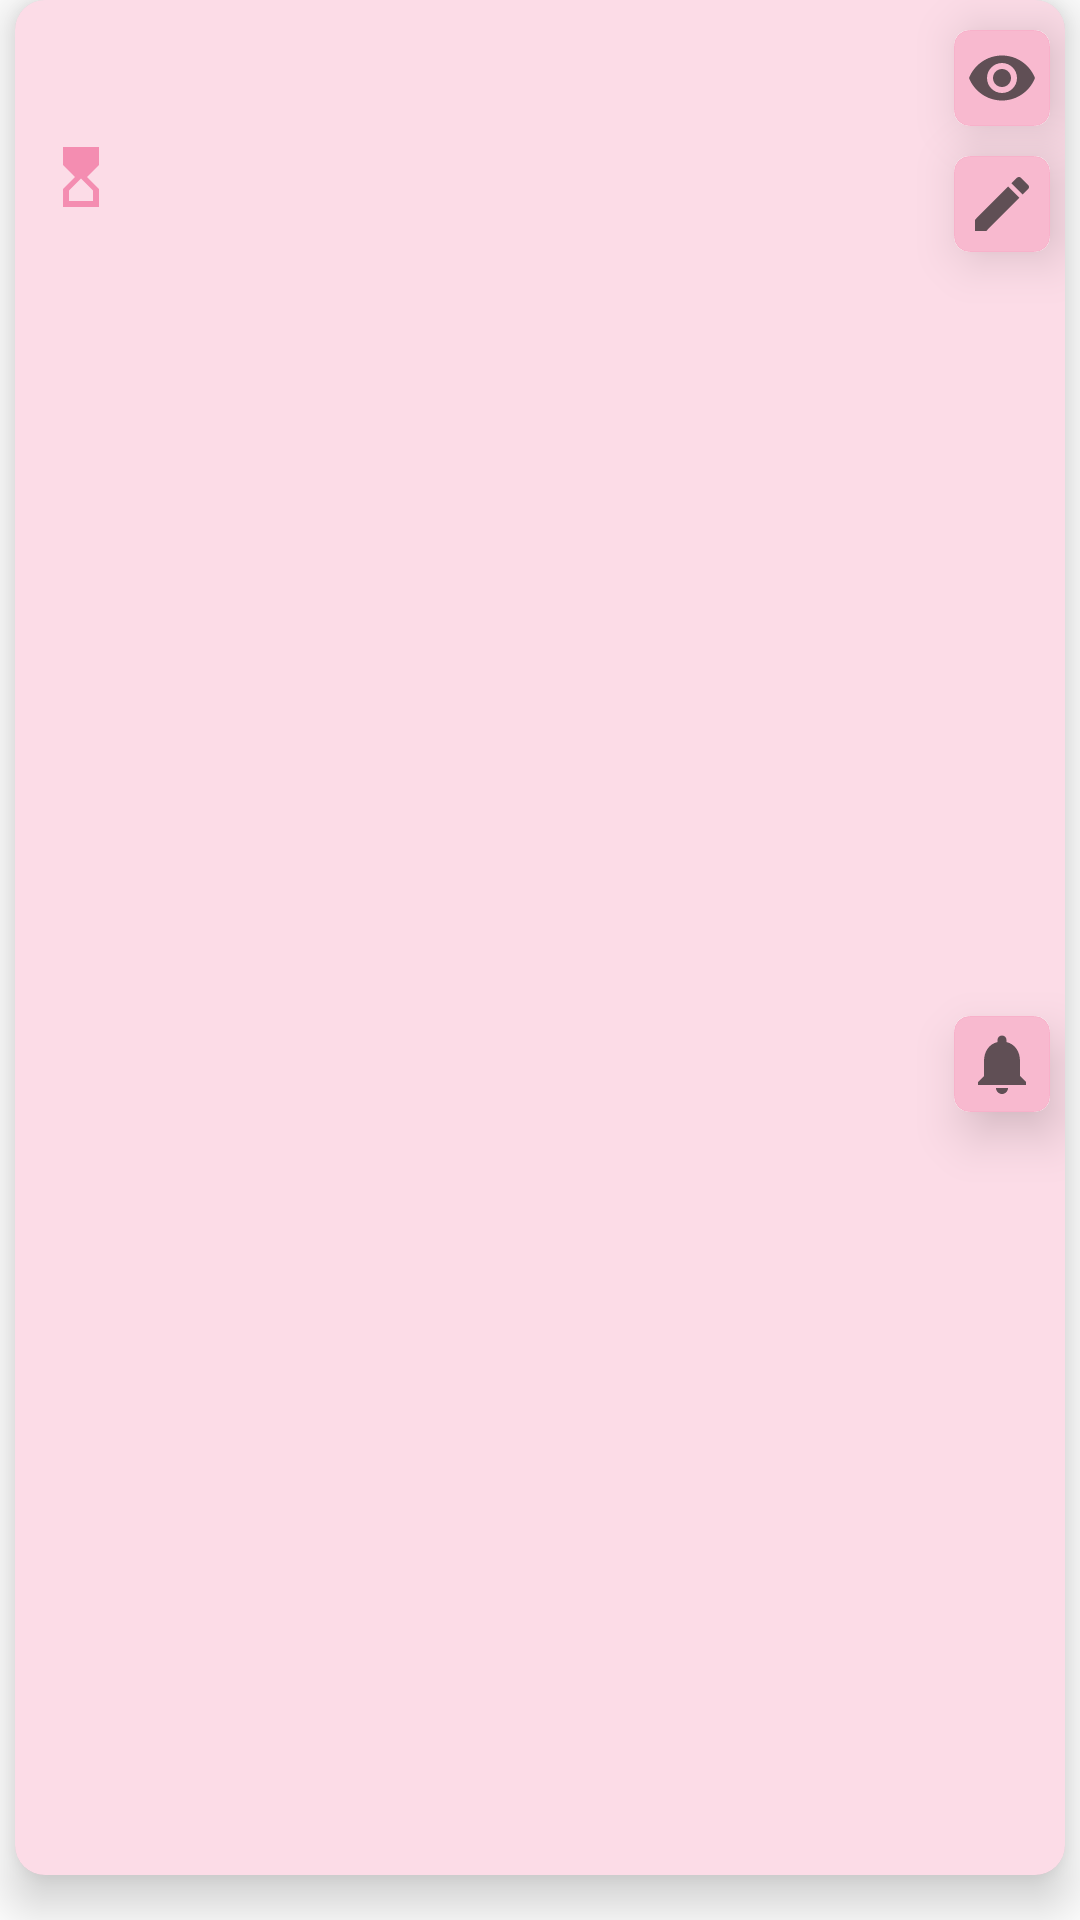

Screen size 1080x1920. Icon name, then its box in pixels as (x1, y1, x2, y2):
modifica: (954, 156, 1050, 252)
reminder: (954, 1016, 1050, 1112)
vizualizare: (954, 30, 1050, 126)
